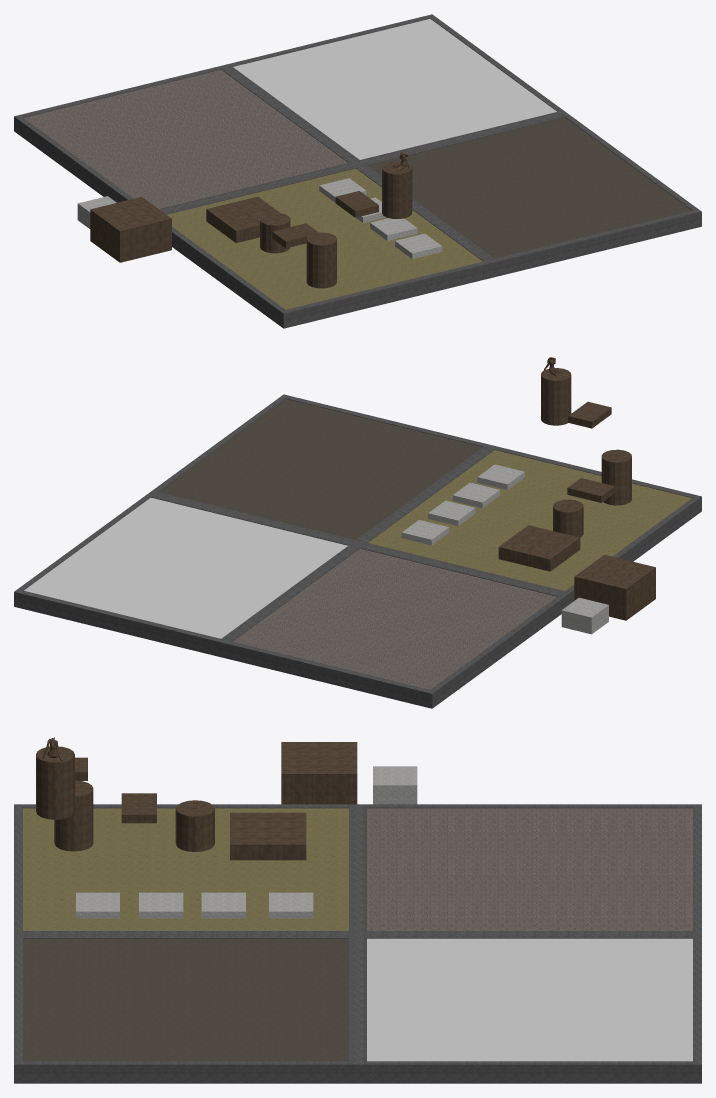
The model's file is VR24World.fbx.
3 renders of one model, top to bottom at view 1: azimuth 30°, elevation 25°; view 2: azimuth 150°, elevation 25°; view 3: azimuth 270°, elevation 25°, orthographic. The views are drawn at different scales.
Parts seen in each view (by area): view 1: VR24Dodai, WoodenCube, Rift02, Rift01, ConcreteCube.001; view 2: VR24Dodai, WoodenCube, ConcreteCube.001, Rift01, Rift02; view 3: VR24Dodai, WoodenCube, ConcreteCube.001, Rift01.
Boxes of the visible parts, x1,y1,x2,y2 form: VR24Dodai: [14, 14, 701, 328]; WoodenCube: [90, 197, 171, 262]; Rift02: [335, 191, 378, 217]; Rift01: [272, 223, 318, 248]; ConcreteCube.001: [77, 196, 116, 228]; VR24Dodai: [14, 368, 701, 708]; WoodenCube: [574, 554, 655, 620]; ConcreteCube.001: [561, 597, 608, 634]; Rift01: [567, 478, 615, 502]; Rift02: [568, 401, 611, 428]; VR24Dodai: [14, 746, 701, 1083]; WoodenCube: [281, 742, 357, 804]; ConcreteCube.001: [373, 766, 417, 804]; Rift01: [121, 793, 156, 823].
Size of the model in its own units: 46.79 by 13.53 by 45.81.
